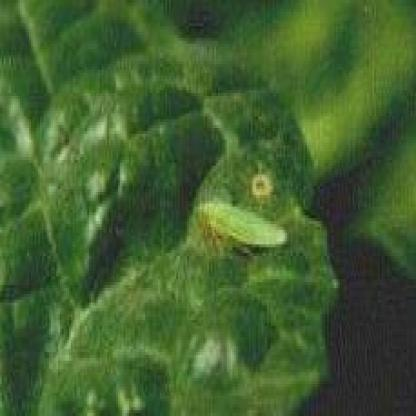Green-Leafhopper: (193, 194, 289, 268)
